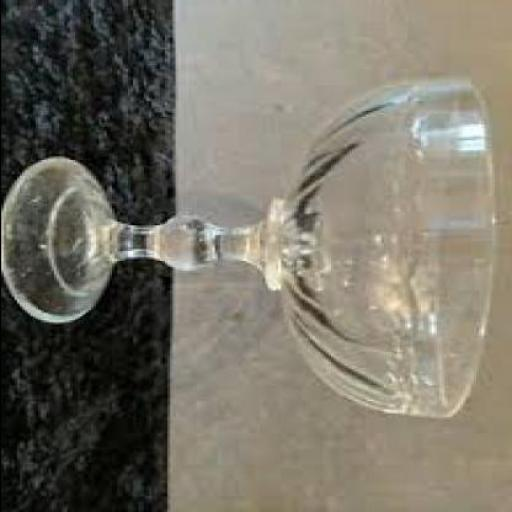glass: (2, 83, 496, 419)
